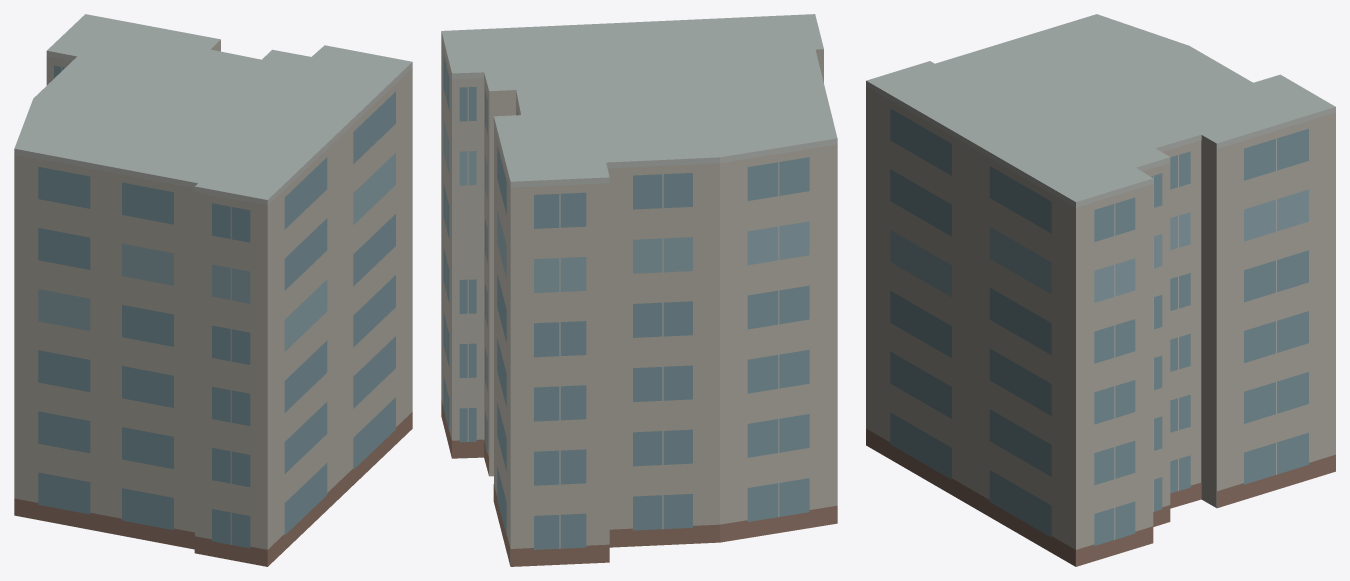
Rendered from survey-upis-32973270.glb.
The picture shows the model from 3 angles, left to right: view 1: azimuth 30°, elevation 25°; view 2: azimuth 150°, elevation 25°; view 3: azimuth 270°, elevation 25°; orthographic projection. The views are drawn at different scales.
Parts seen in each view (by area): view 1: survey-upis-32973270.tmp; view 2: survey-upis-32973270.tmp; view 3: survey-upis-32973270.tmp.
Boxes of the visible parts, x1=… form: survey-upis-32973270.tmp: x1=14, y1=14, x2=412, y2=566; survey-upis-32973270.tmp: x1=441, y1=14, x2=837, y2=566; survey-upis-32973270.tmp: x1=866, y1=14, x2=1335, y2=566.
Size of the model in its own units: 17.49 by 15.8 by 18.45.
